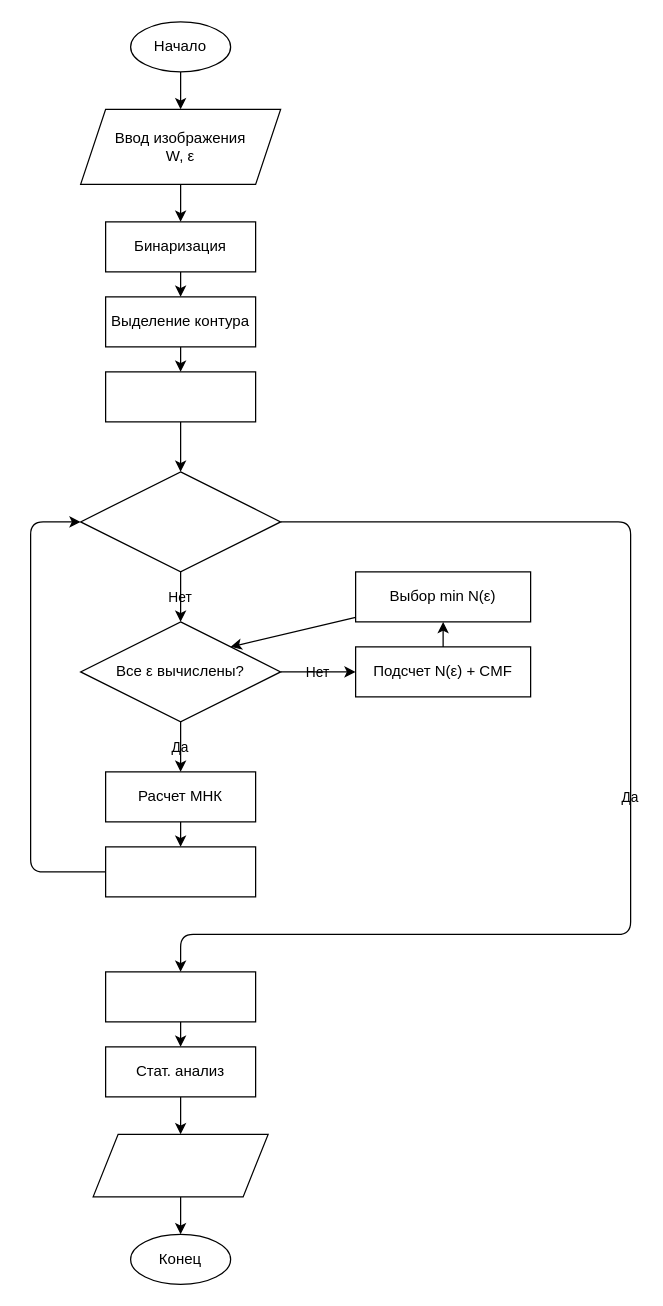
Some shapes in this 663 by 1306 pixel diagram are drawn without their labels. The centre of each missing label's shape, as x and y in pixels:
"Все окна пройдены?" belongs at (180,521).
"Вывод отчета" belongs at (180,1165).
"Запись D_local" belongs at (180,871).
"Скелетизация" belongs at (180,396).
"Тепловая карта" belongs at (180,996).
